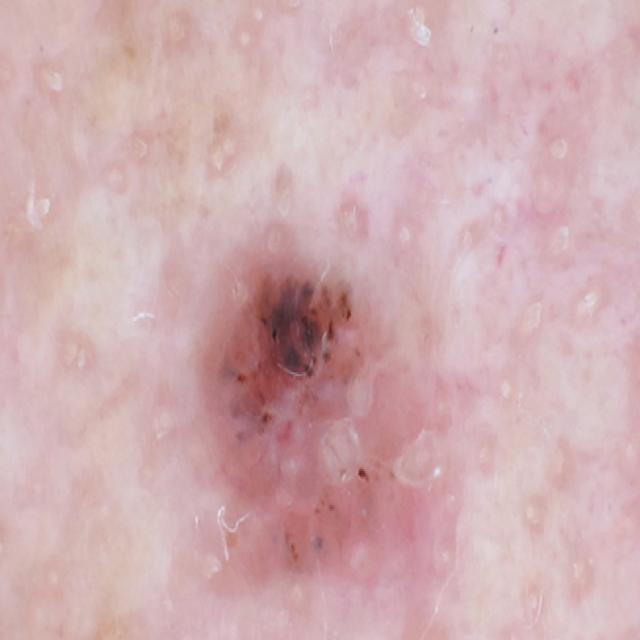Carcinoma: (169, 204, 449, 624)
